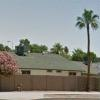Palm tree: (72, 6, 99, 62)
